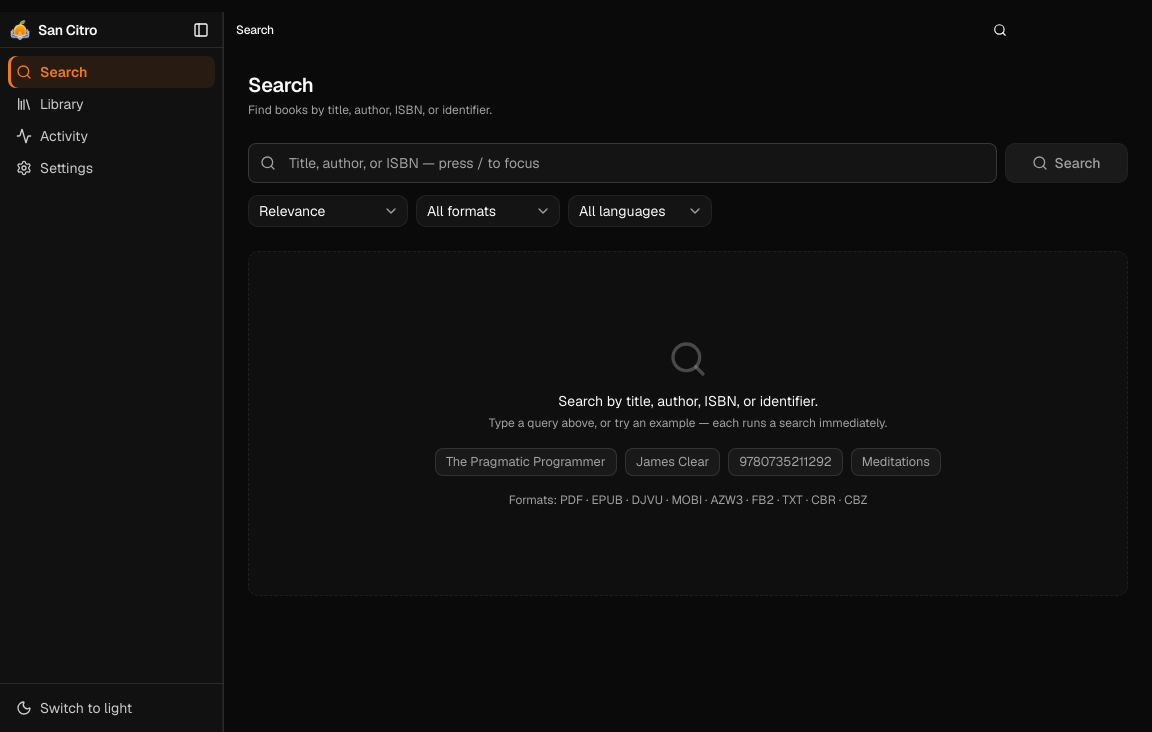
Test case: Desktop layout regression (#64) — viewports › renders Search results at default window size
Expected: the header "Search" is shown, [224,12,1151,48]
Expected: the element showing "San Citro Search Library Activity Settings Switch to light" is shown, [0,12,224,731]
Type "layout fixture" into the field named "Search query".
click(622, 163); type("layout fixture")  # box [248,143,997,183]
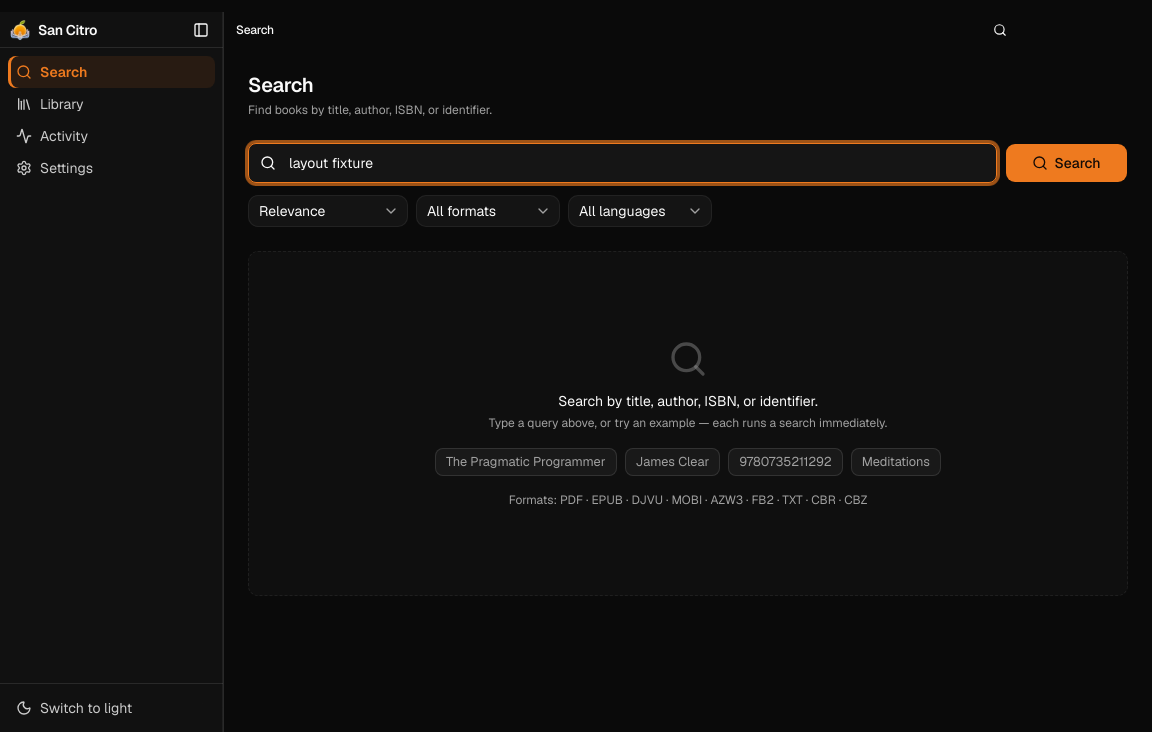
Submit the form named "Search controls", box [248,143,1128,227]
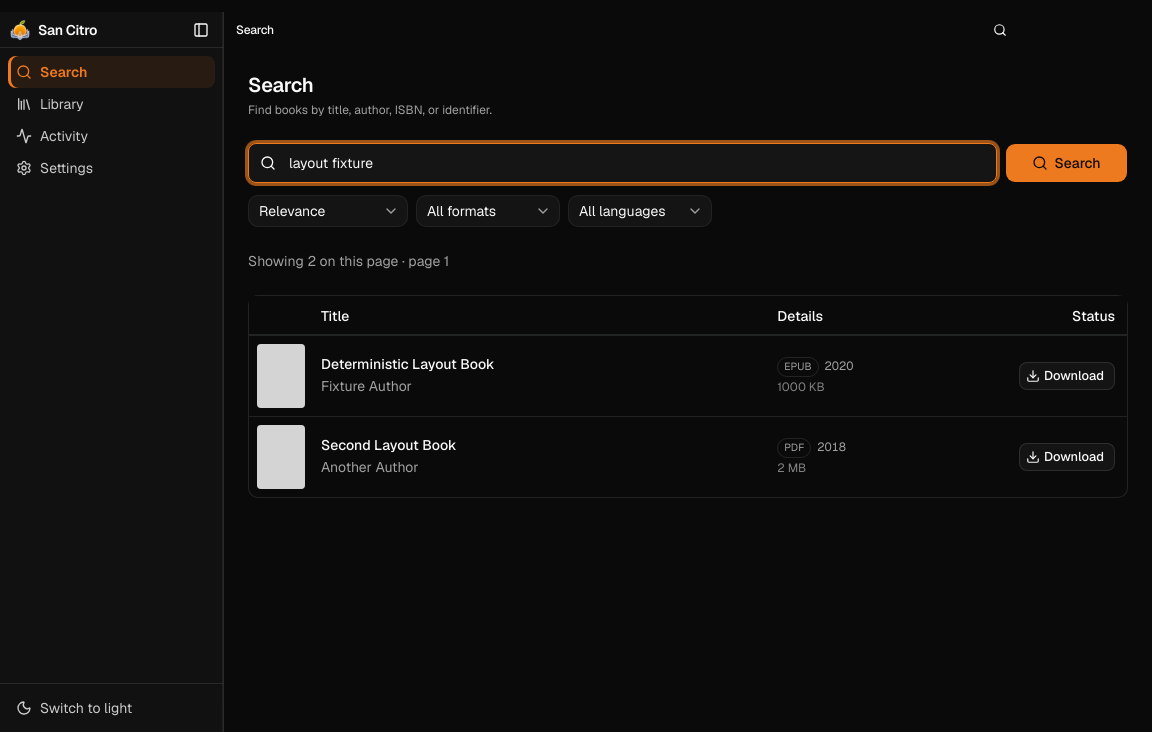
Expected: the header "Search" is shown, [224,12,1151,48]
Result: the element that starts with "Title" is shown at [248,295,1128,498]
